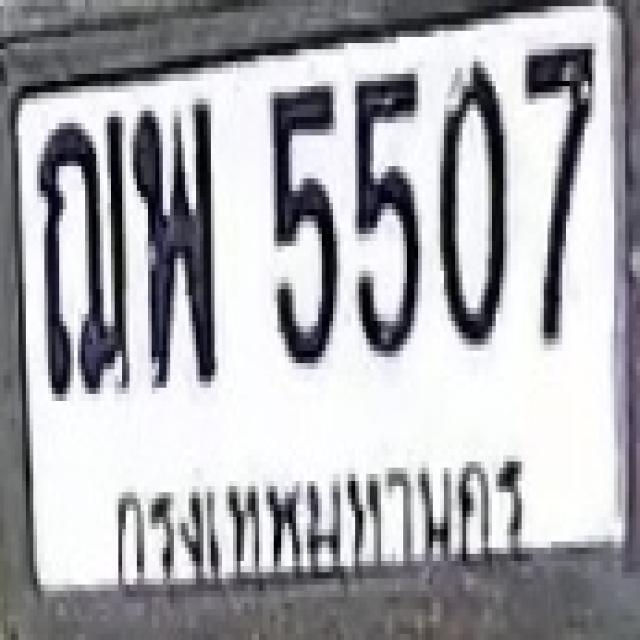0: (430, 47, 514, 368)
5: (256, 75, 350, 383), (347, 49, 426, 381)
7: (520, 40, 598, 395)
A12: (12, 87, 138, 417)
A30: (123, 87, 231, 401)
BKK: (97, 458, 547, 588)
